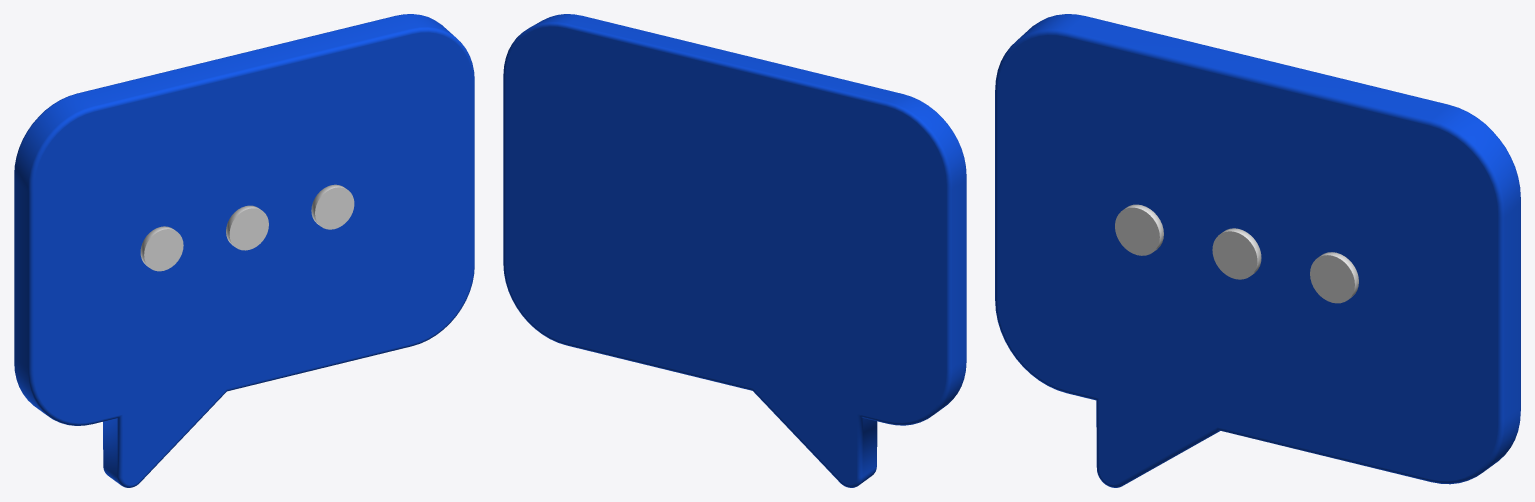
Rendered from message.glb.
The picture shows the model from 3 angles, left to right: view 1: azimuth 30°, elevation 25°; view 2: azimuth 150°, elevation 25°; view 3: azimuth 330°, elevation 25°; orthographic projection. The views are drawn at different scales.
Parts seen in each view (by area): view 1: Curve.014, Cylinder.004; view 2: Curve.014; view 3: Curve.014, Cylinder.004.
Part boxes in pixels (bbox=[...]): Curve.014: bbox=[14, 14, 474, 487]; Cylinder.004: bbox=[140, 184, 354, 271]; Curve.014: bbox=[503, 14, 966, 487]; Curve.014: bbox=[995, 14, 1520, 487]; Cylinder.004: bbox=[1115, 204, 1358, 303].
Size of the model in its own units: 26.22 by 22.07 by 2.18.
